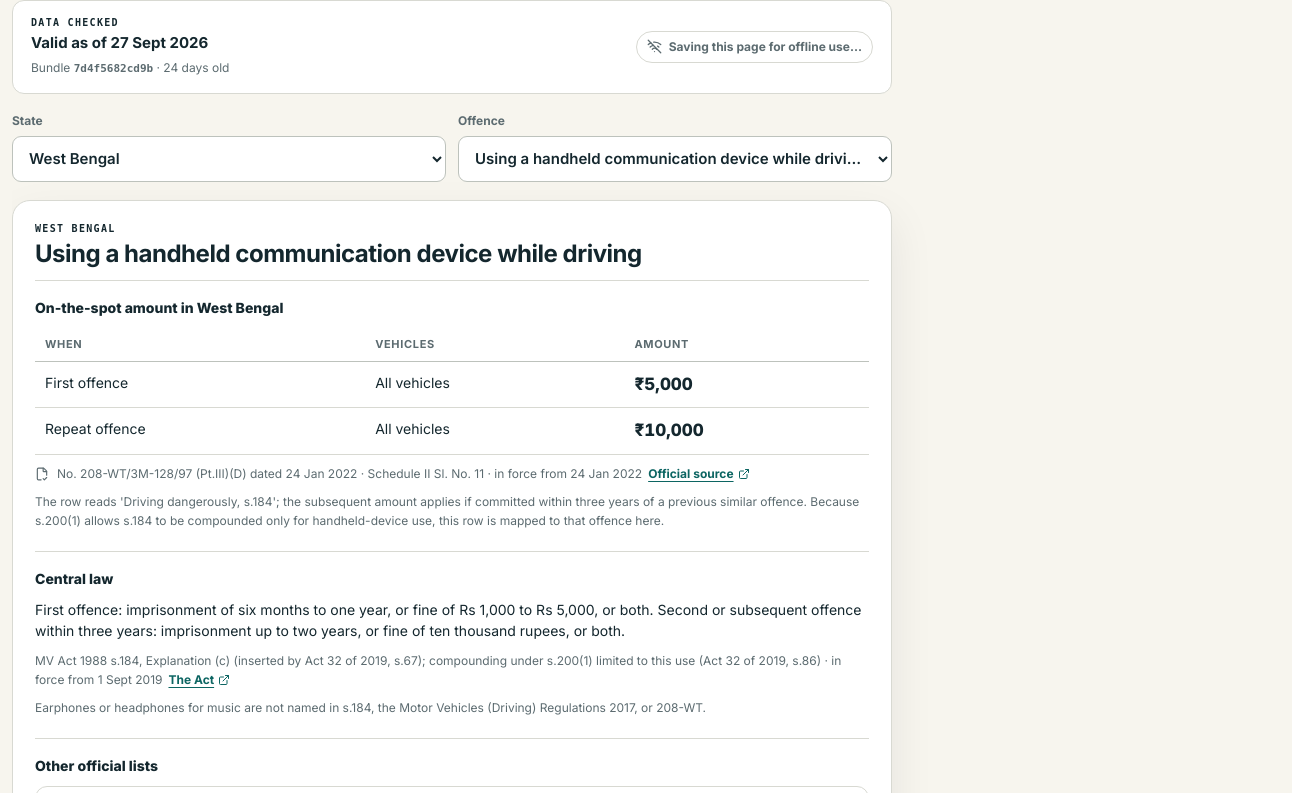
Test: RoadsideMode › shows Karnataka's lower helmet amount beside the central fine, clearly labelled
Select "Karnataka" in the dropdown labelled "State" at (229, 158), box [12,136,446,182]
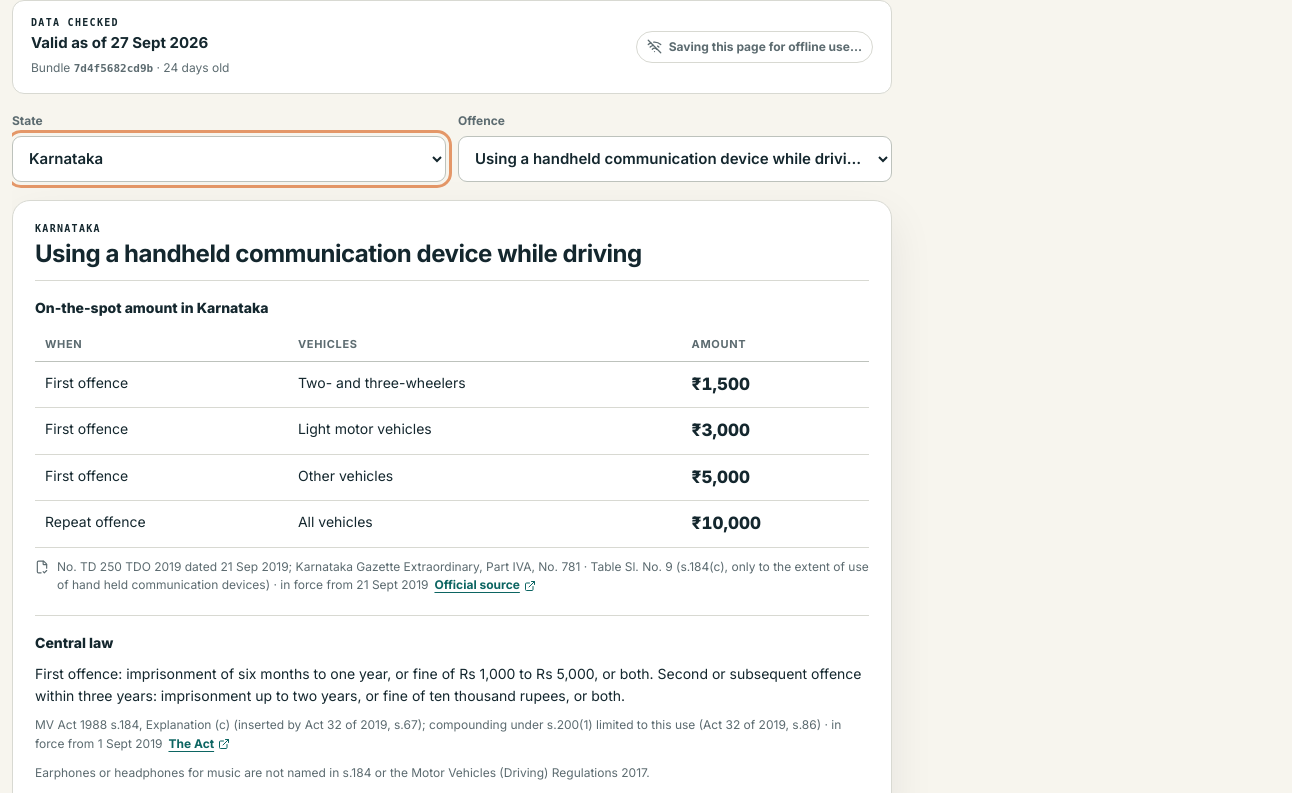
Select "Riding a motor cycle without protective headgear" in the dropdown labelled "Offence" at (675, 158), box [458,136,892,182]
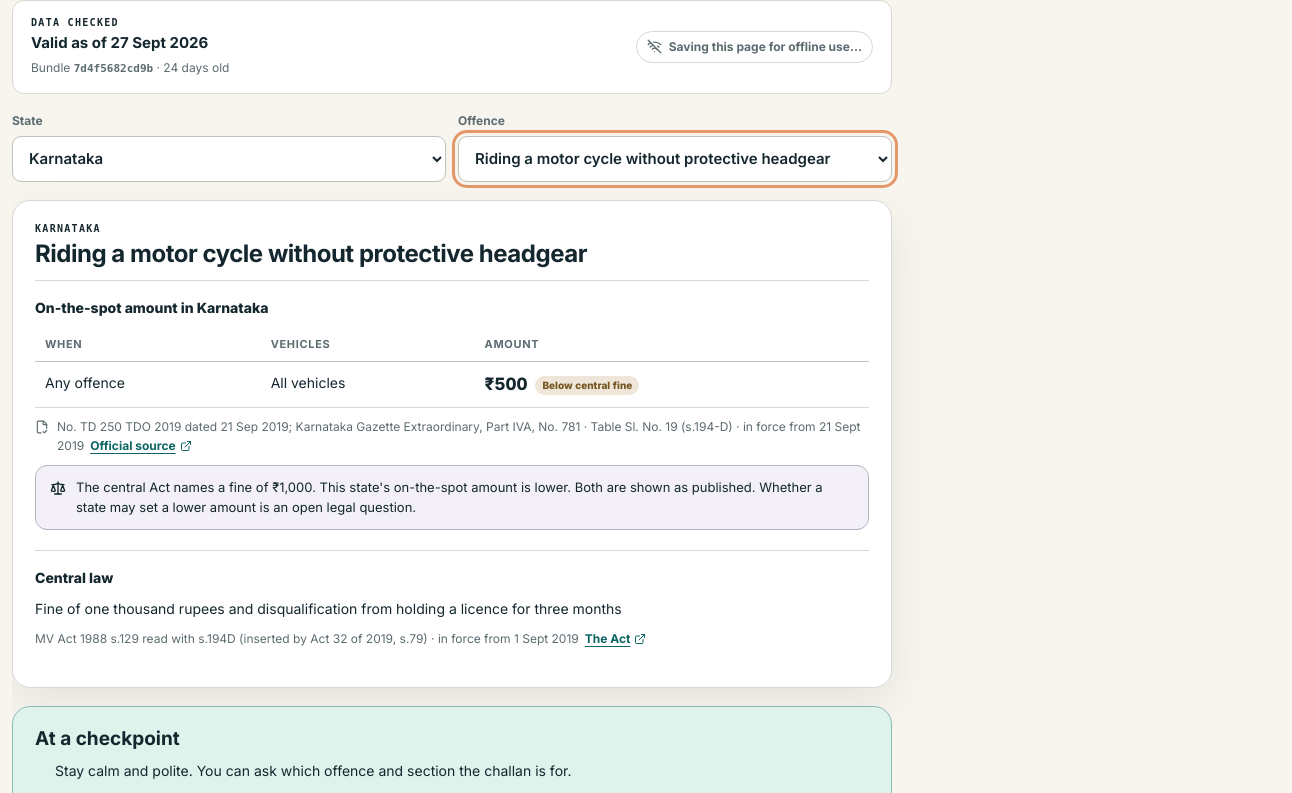
Check: the text "₹500" is shown, box [485,374,527,394]
Check: the text "Below central fine" is shown, box [535,376,639,395]
Check: the text "central Act names a fine of ₹1,000" is shown, box [76,478,854,518]
